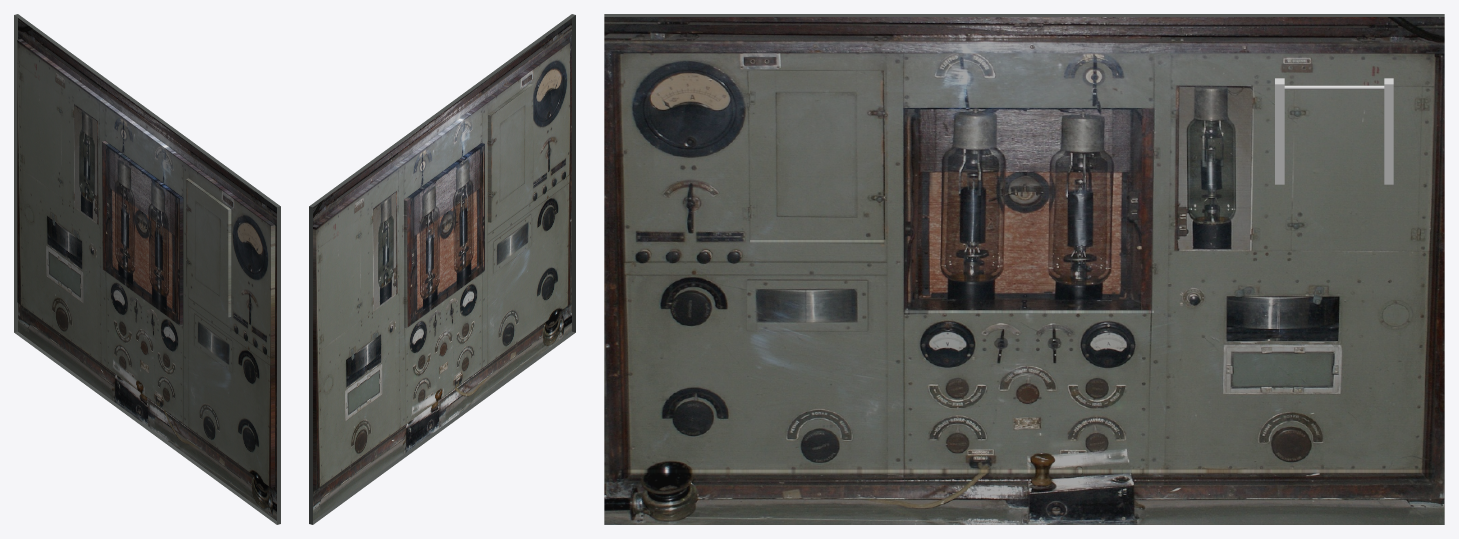
Rendered from lever.fbx.
3 renders of one model, left to right at view 1: azimuth 30°, elevation 25°; view 2: azimuth 150°, elevation 25°; view 3: azimuth 270°, elevation 25°, orthographic. The views are drawn at different scales.
Visible parts, largest first — view 1: Plane; view 2: Plane; view 3: Plane, Cylinder.
Part boxes in pixels (x1,y1,x2,y2): Plane: (14, 14, 280, 524); Plane: (309, 14, 575, 524); Plane: (604, 14, 1444, 524); Cylinder: (1275, 78, 1393, 184).
Size of the model in its own units: 14.04 by 400 by 600.
